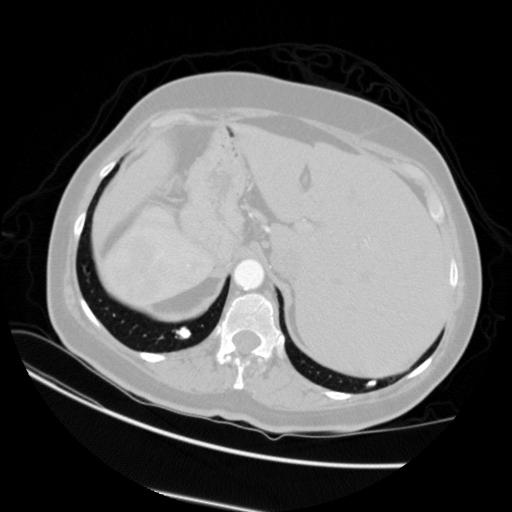nodule: (178, 324, 197, 343)
